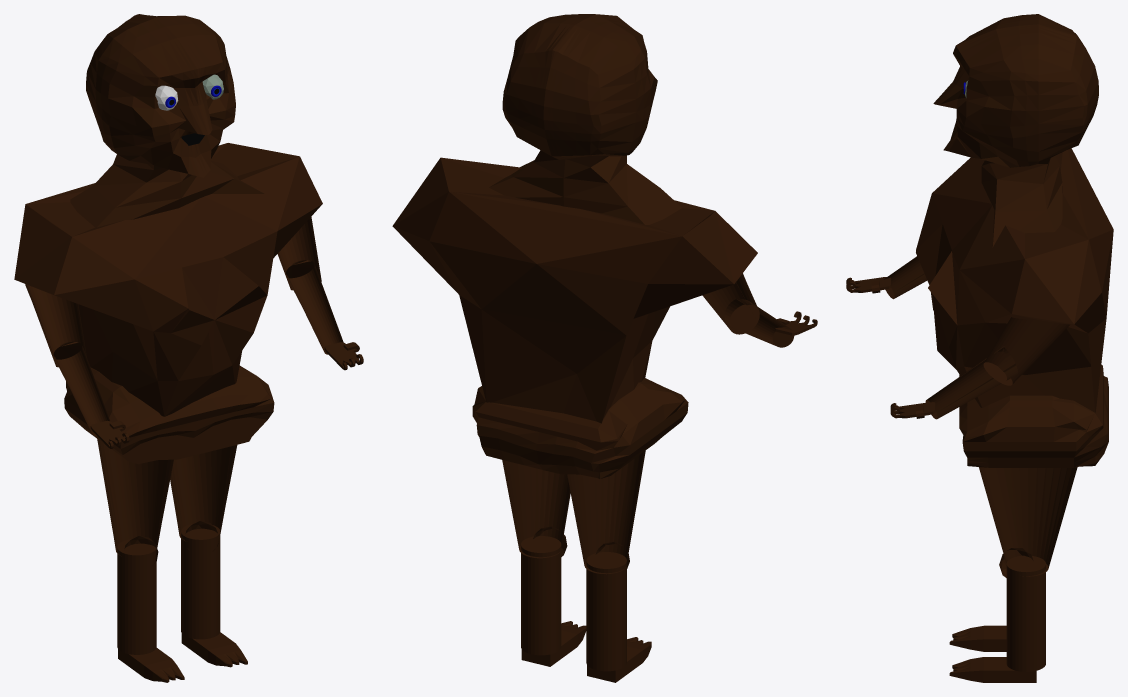
File: bodyLowPoly1.obj
3 views of the same model, side by side, from view 1: azimuth 30°, elevation 25°; view 2: azimuth 150°, elevation 25°; view 3: azimuth 270°, elevation 25° (orthographic). The views are drawn at different scales.
Parts seen in each view (by area): view 1: chest, head, hip, neck, upperleftleg, lowerleftleg, lowerrightleg_Cylinder.007, upperrightleg, lowerrightarm_Cylinder.004, lowerleftarm, upperleftarm, rightfoot_Cube.003 (+4 smaller); view 2: chest, head, hip, neck, upperleftleg, lowerleftleg, lowerrightleg_Cylinder.007, upperrightleg, upperleftarm, lowerleftarm, rightfoot_Cube.003, leftfoot; view 3: chest, head, hip, upperrightleg, neck, lowerrightleg_Cylinder.007, rightupperarm_upperrightarm, lowerrightarm_Cylinder.004, rightfoot_Cube.003, leftfoot, lowerleftarm, lefthand (+1 smaller).
Part boxes in pixels (x1=…): chest: x1=14, y1=143, x2=322, y2=416; head: x1=86, y1=14, x2=235, y2=177; hip: x1=64, y1=365, x2=274, y2=464; neck: x1=70, y1=154, x2=264, y2=227; upperleftleg: x1=97, y1=439, x2=173, y2=556; lowerleftleg: x1=117, y1=539, x2=156, y2=654; lowerrightleg_Cylinder.007: x1=181, y1=524, x2=220, y2=639; upperrightleg: x1=170, y1=445, x2=237, y2=540; lowerrightarm_Cylinder.004: x1=286, y1=260, x2=343, y2=354; lowerleftarm: x1=53, y1=341, x2=109, y2=436; upperleftarm: x1=25, y1=284, x2=86, y2=367; rightfoot_Cube.003: x1=181, y1=632, x2=247, y2=667; chest: x1=392, y1=157, x2=757, y2=423; head: x1=502, y1=14, x2=657, y2=159; hip: x1=472, y1=378, x2=688, y2=478; neck: x1=489, y1=150, x2=681, y2=224; upperleftleg: x1=567, y1=450, x2=645, y2=574; lowerleftleg: x1=586, y1=552, x2=626, y2=671; lowerrightleg_Cylinder.007: x1=521, y1=536, x2=561, y2=655; upperrightleg: x1=502, y1=460, x2=570, y2=558; upperleftarm: x1=702, y1=273, x2=759, y2=334; lowerleftarm: x1=724, y1=299, x2=794, y2=347; rightfoot_Cube.003: x1=521, y1=621, x2=586, y2=666; leftfoot: x1=587, y1=637, x2=651, y2=682; chest: x1=916, y1=148, x2=1113, y2=413; head: x1=933, y1=14, x2=1098, y2=167; hip: x1=959, y1=364, x2=1108, y2=467; upperrightleg: x1=979, y1=467, x2=1077, y2=576; neck: x1=981, y1=154, x2=1062, y2=247; lowerrightleg_Cylinder.007: x1=1006, y1=555, x2=1045, y2=671; rightupperarm_upperrightarm: x1=983, y1=317, x2=1069, y2=385; lowerrightarm_Cylinder.004: x1=925, y1=346, x2=1017, y2=419; rightfoot_Cube.003: x1=949, y1=657, x2=1036, y2=682; leftfoot: x1=949, y1=625, x2=1006, y2=651; lowerleftarm: x1=882, y1=256, x2=927, y2=299; lefthand: x1=846, y1=277, x2=891, y2=293.
Bounding box in the file's own units: 4.01 × 7.86 × 3.01.
